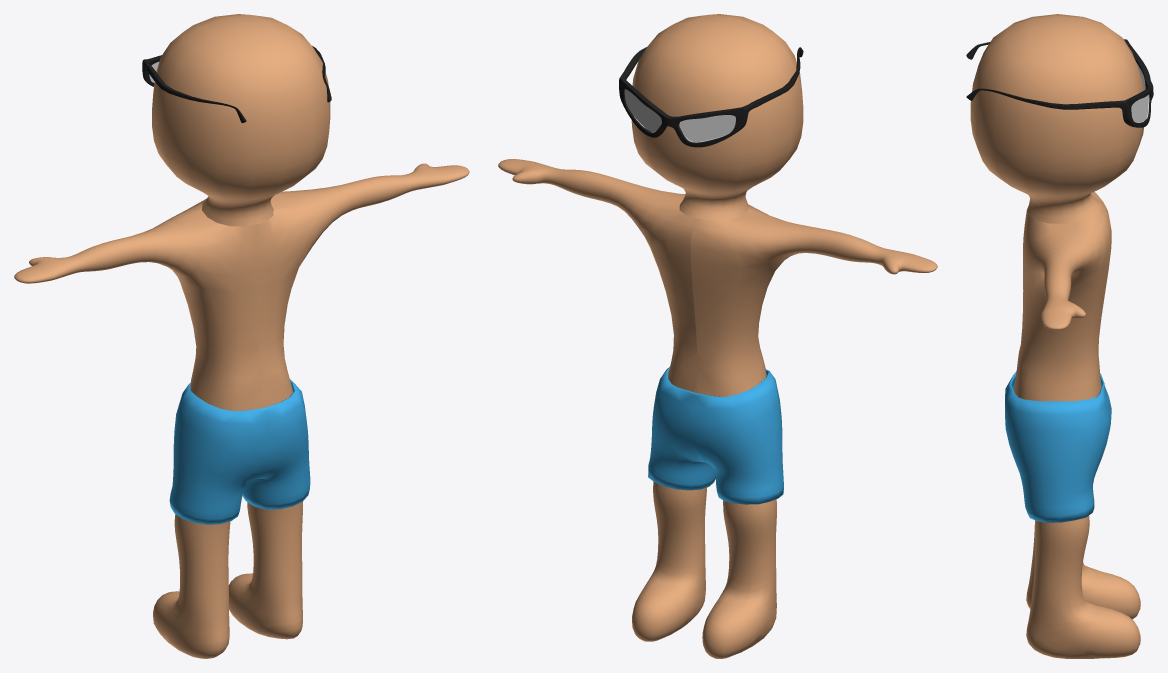
File: Surfer.fbx
The picture shows the model from 3 angles, left to right: view 1: azimuth 30°, elevation 25°; view 2: azimuth 150°, elevation 25°; view 3: azimuth 270°, elevation 25°; orthographic projection. The views are drawn at different scales.
Parts seen in each view (by area): view 1: SlideSurfer; view 2: SlideSurfer; view 3: SlideSurfer.
Boxes of the visible parts, box(x1,y1,x2,y2) form: SlideSurfer: box(14, 14, 469, 658); SlideSurfer: box(498, 14, 937, 658); SlideSurfer: box(966, 14, 1153, 658).
Size of the model in its own units: 5.42 by 1.97 by 7.12.
